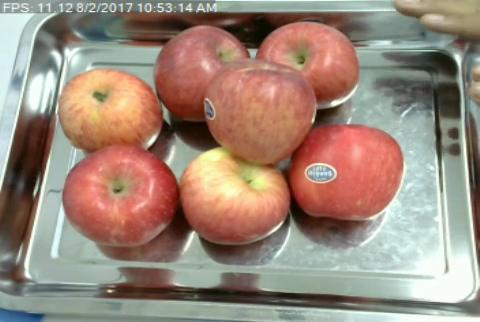apple: (205, 59, 316, 165), (181, 146, 290, 246), (290, 123, 403, 219), (62, 150, 178, 243), (61, 68, 164, 152), (261, 22, 358, 110), (155, 26, 246, 116)
